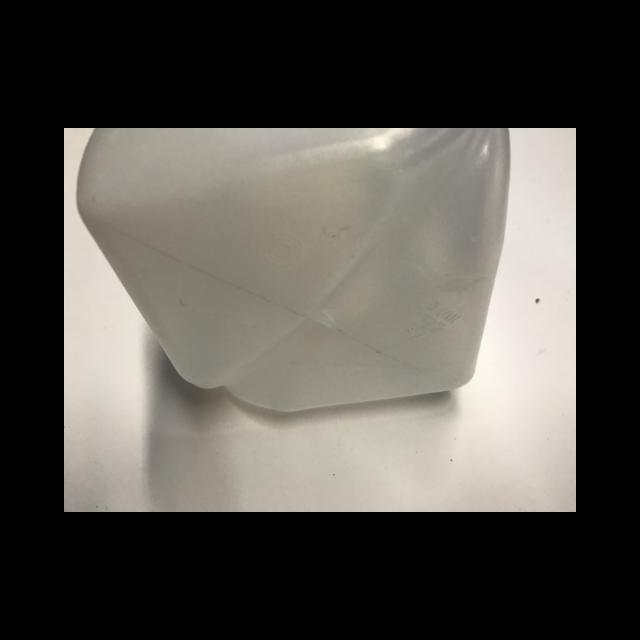plastic: (75, 128, 510, 412)
